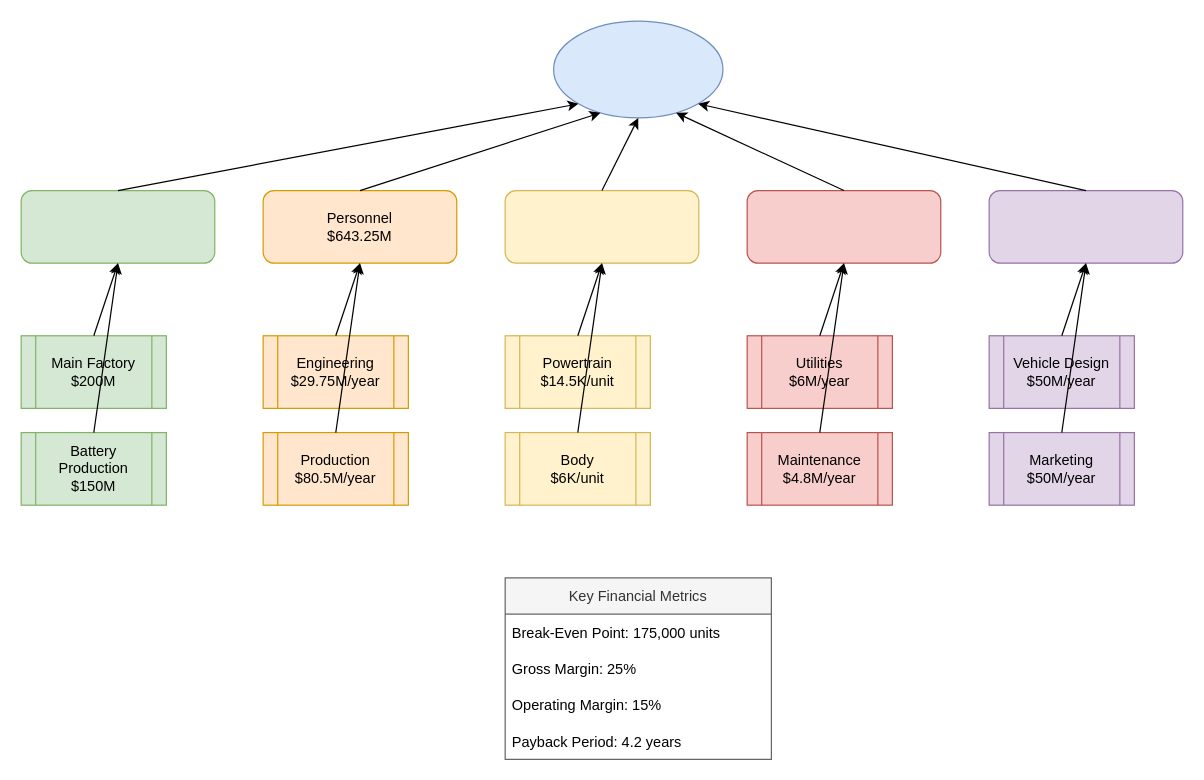
The diagram is 1204 pixels wide and 780 high, and some of its shapes have lost their labels. The shapes that lost their labels are listed below. From the top down, each one's centre as x and y in pixels, then its label:
At point 637,69: "Total Program Cost $26.57B (5-Year)".
At point 117,226: "Facilities & Equipment $846M".
At point 601,226: "Components $24B".
At point 843,226: "Operations $84M".
At point 1085,226: "R&D and Marketing $1B".
